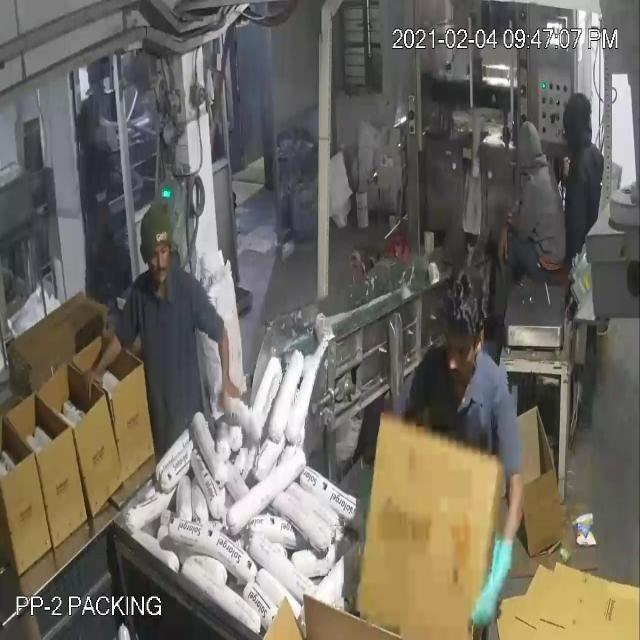No_Gloves: (40, 92, 495, 554)
